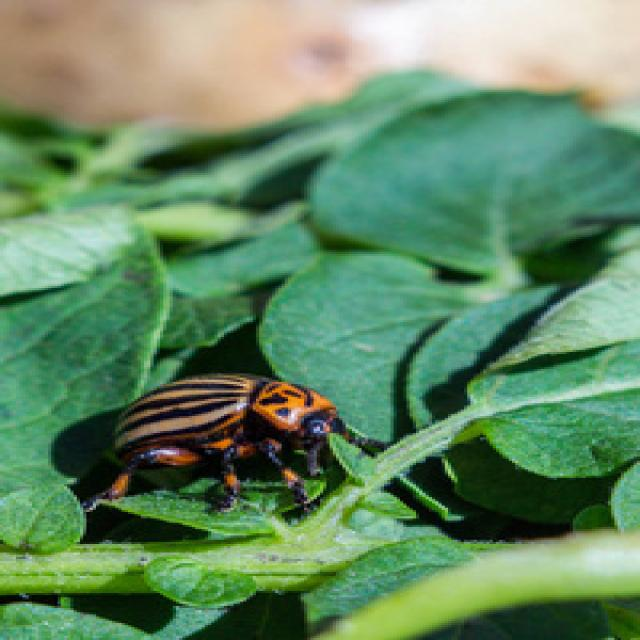ShuCaiHuaBanChong-Grown-: (84, 358, 398, 508)
